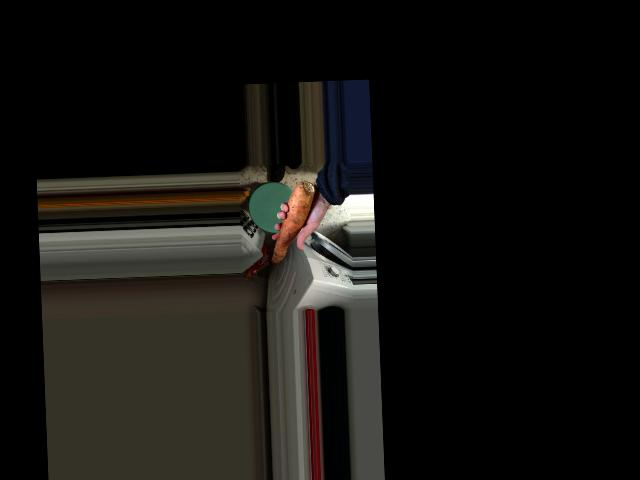sweet_potato: (264, 179, 320, 269)
